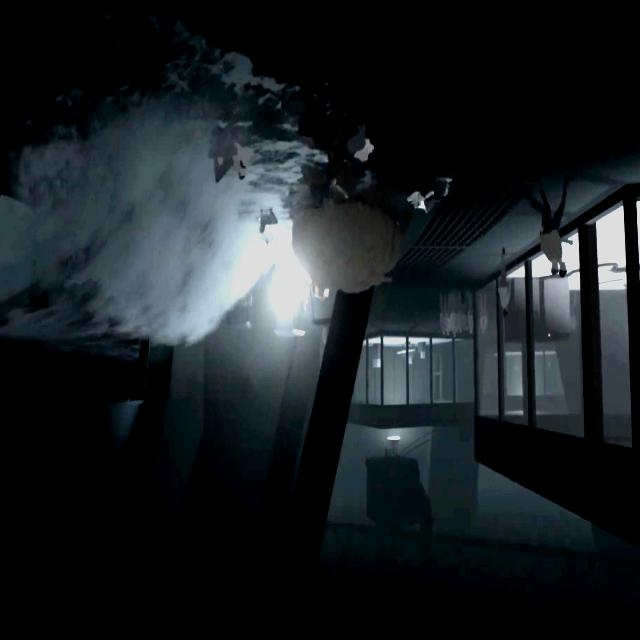blob: (288, 197, 404, 291)
human: (533, 174, 574, 274), (520, 184, 562, 275), (208, 144, 246, 187), (348, 122, 374, 166), (496, 245, 511, 317), (257, 206, 277, 232), (438, 290, 448, 334), (479, 287, 488, 331), (451, 288, 457, 338), (457, 292, 463, 334), (468, 290, 473, 338), (463, 295, 468, 334)
